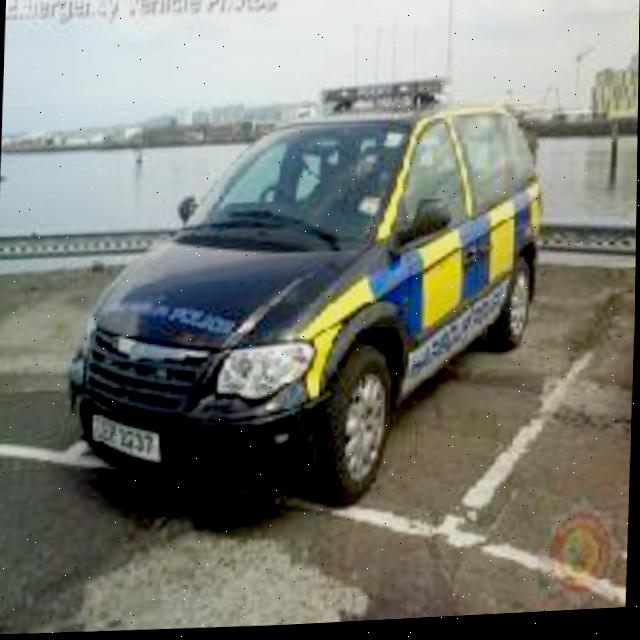emergency: (94, 70, 548, 511)
